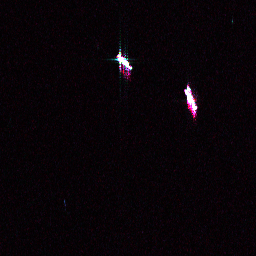ship: (181, 84, 199, 113), (113, 51, 135, 73)
